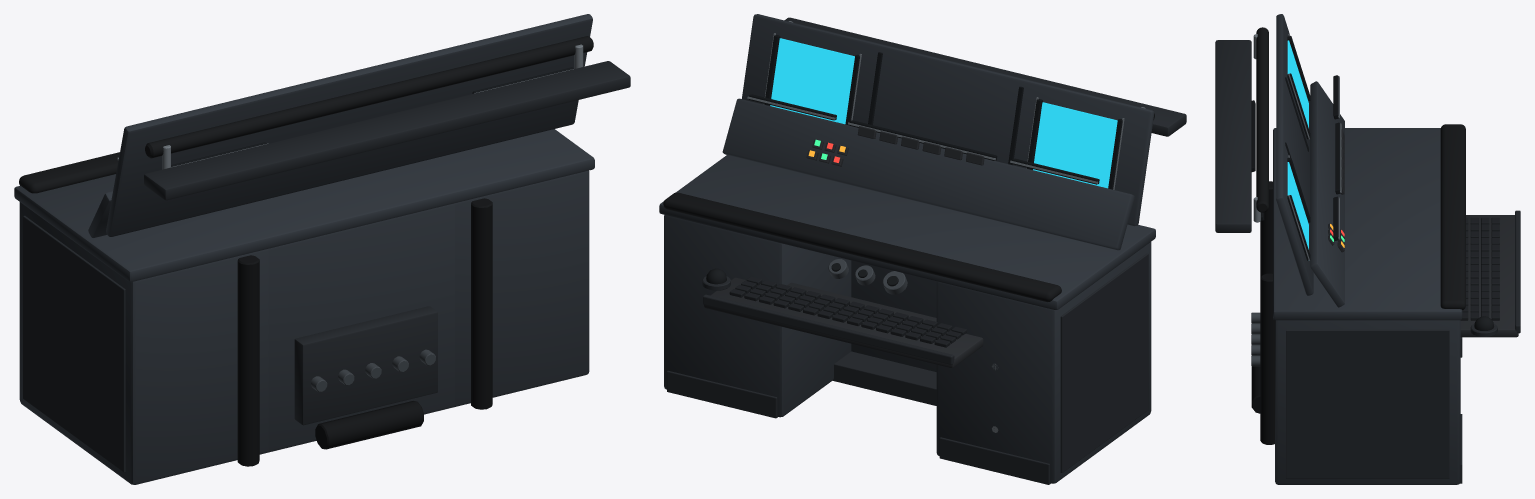
File: bridge_console.glb
3 renders of one model, left to right at view 1: azimuth 30°, elevation 25°; view 2: azimuth 150°, elevation 25°; view 3: azimuth 270°, elevation 25°, orthographic. The views are drawn at different scales.
Visible parts, largest first — view 1: C_Console_Face_Mat, C_Console_DarkFrame_Mat, C_Console_Cable_Mat, C_Console_Rail_Mat, C_Console_Knob_Mat; view 2: C_Console_Face_Mat, C_Console_DarkFrame_Mat, C_Console_Screen_Mat, C_Console_Rail_Mat, C_Console_KeyTray_Mat, C_Console_Key_Mat, C_Console_Bezel_Mat, C_Console_Frame_Mat, C_Console_Knob_Mat; view 3: C_Console_Face_Mat, C_Console_DarkFrame_Mat, C_Console_Rail_Mat, C_Console_Cable_Mat, C_Console_KeyTray_Mat, C_Console_Key_Mat, C_Console_Bezel_Mat, C_Console_Screen_Mat, C_Console_Frame_Mat, C_Console_Knob_Mat.
Boxes of the visible parts, x1,y1,x2,y2 form: C_Console_Face_Mat: [14, 14, 594, 484]; C_Console_DarkFrame_Mat: [23, 61, 630, 472]; C_Console_Cable_Mat: [237, 198, 492, 466]; C_Console_Rail_Mat: [19, 36, 593, 193]; C_Console_Knob_Mat: [311, 349, 435, 392]; C_Console_Face_Mat: [659, 14, 1155, 483]; C_Console_DarkFrame_Mat: [667, 17, 1186, 484]; C_Console_Screen_Mat: [770, 38, 1117, 188]; C_Console_Rail_Mat: [663, 113, 1154, 302]; C_Console_KeyTray_Mat: [704, 126, 984, 367]; C_Console_Key_Mat: [729, 276, 966, 347]; C_Console_Bezel_Mat: [749, 35, 1122, 189]; C_Console_Frame_Mat: [747, 21, 1145, 432]; C_Console_Knob_Mat: [828, 259, 907, 294]; C_Console_Face_Mat: [1273, 14, 1462, 484]; C_Console_DarkFrame_Mat: [1215, 40, 1520, 483]; C_Console_Rail_Mat: [1256, 27, 1465, 310]; C_Console_Cable_Mat: [1251, 181, 1274, 444]; C_Console_KeyTray_Mat: [1328, 129, 1518, 337]; C_Console_Key_Mat: [1460, 217, 1499, 320]; C_Console_Bezel_Mat: [1251, 36, 1340, 260]; C_Console_Screen_Mat: [1287, 40, 1308, 249]; C_Console_Frame_Mat: [1253, 34, 1341, 260]; C_Console_Knob_Mat: [1251, 312, 1260, 366].
Size of the model in its own units: 2.4 by 1.76 by 1.68.
